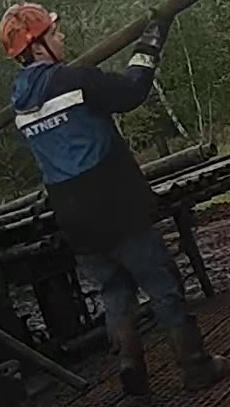gloves: (135, 5, 174, 60)
helmet: (0, 2, 59, 59)
vest: (9, 60, 156, 245)
